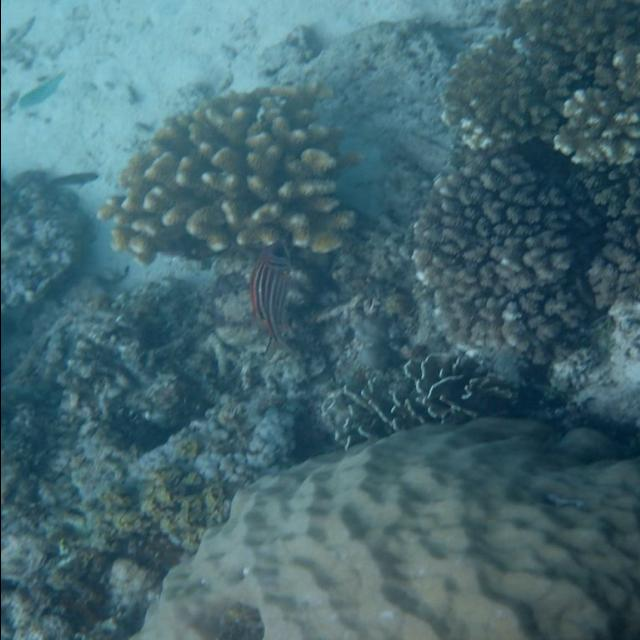Asker Baligi: (244, 240, 298, 359)
